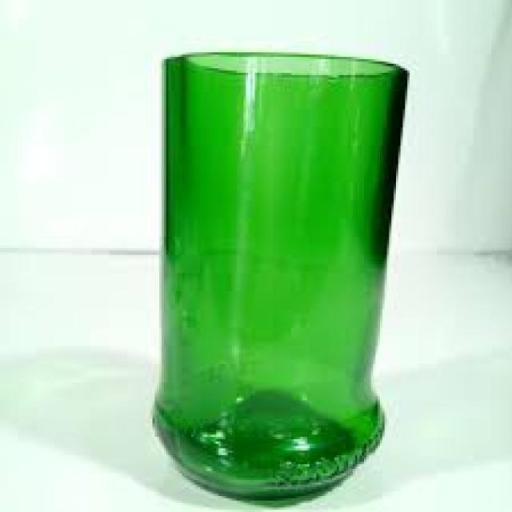glass: (115, 52, 442, 506)
